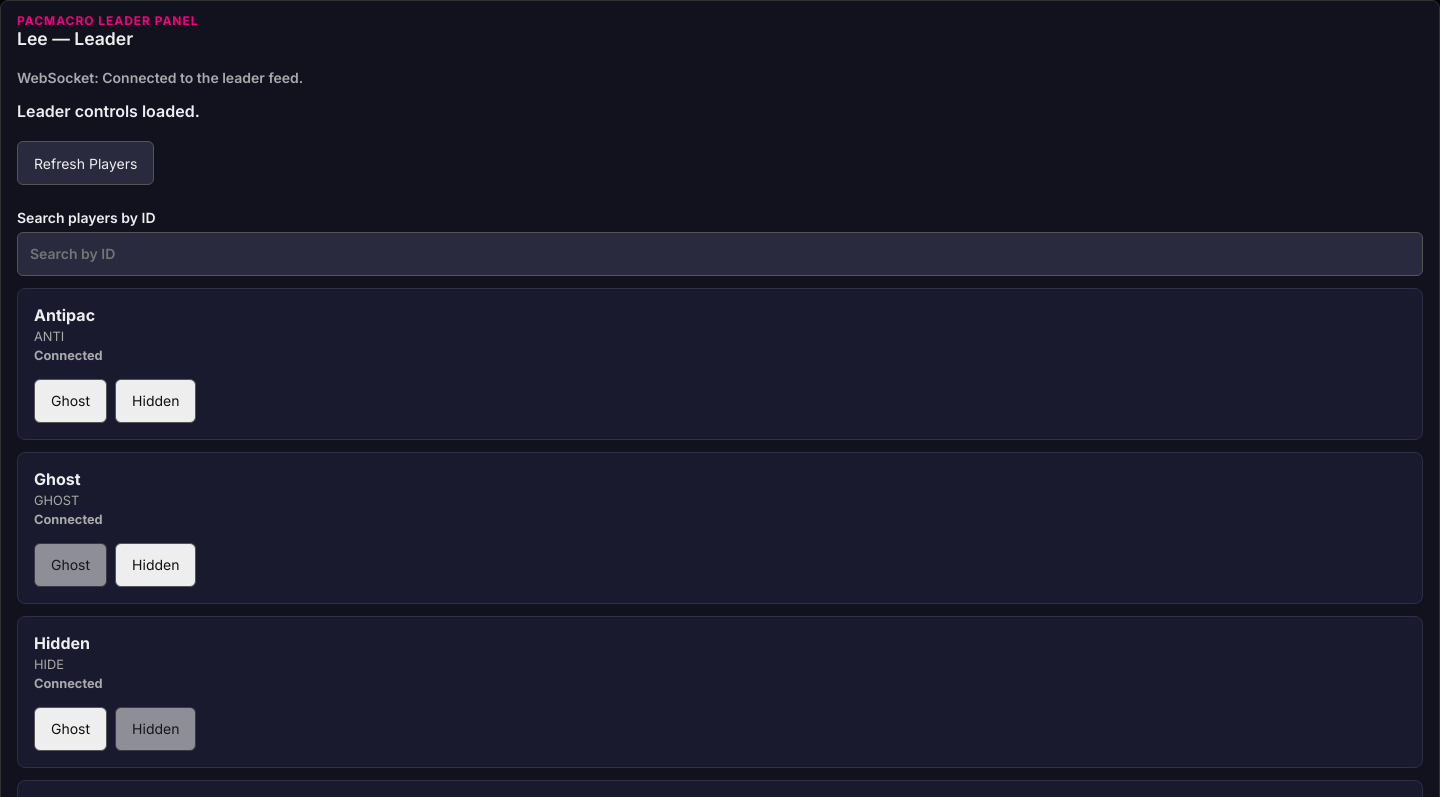
LeaderOverlayComponent › filters players by a case-insensitive ID search
Type "hIdE" into the search field with id "leader-player-search".
click(720, 254); type("hIdE")  # box [17,232,1423,276]
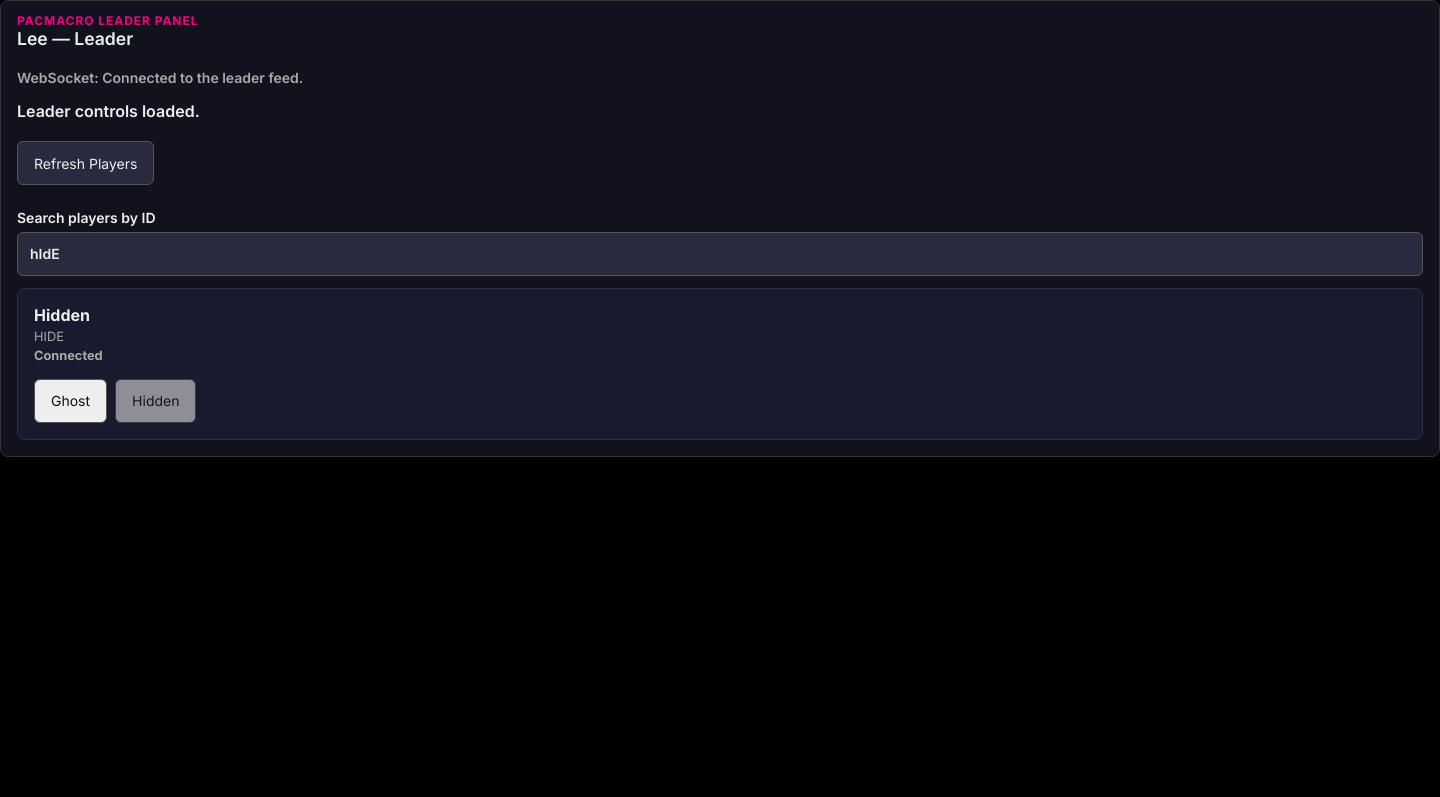
Expected: the text "Hidden" is shown, [34,305,90,325]
Replace the text in the search field with id "leader-player-search" with "missing" at (720, 254), box [17,232,1423,276]
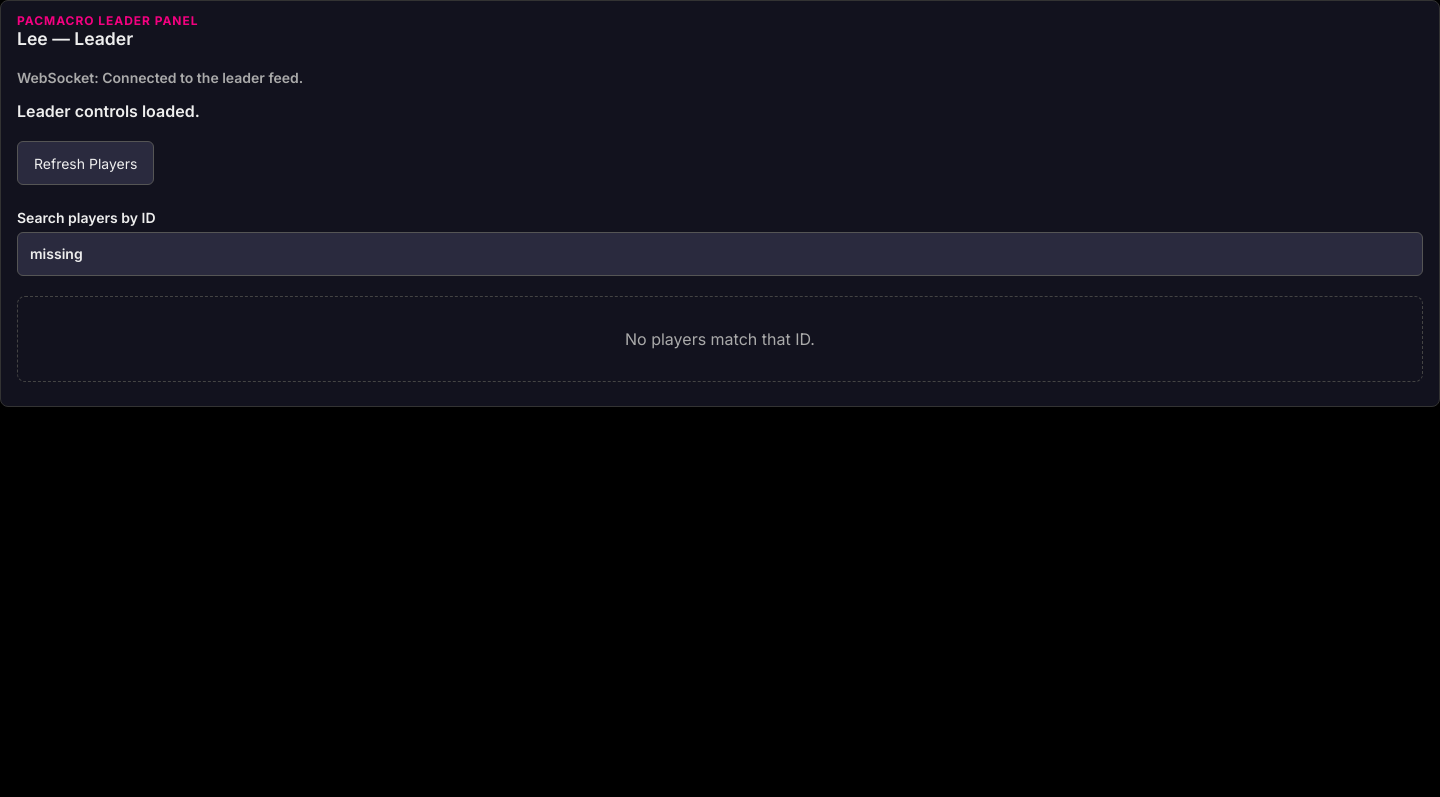
Result: the text "No players match that ID." is shown at [17,296,1423,382]
